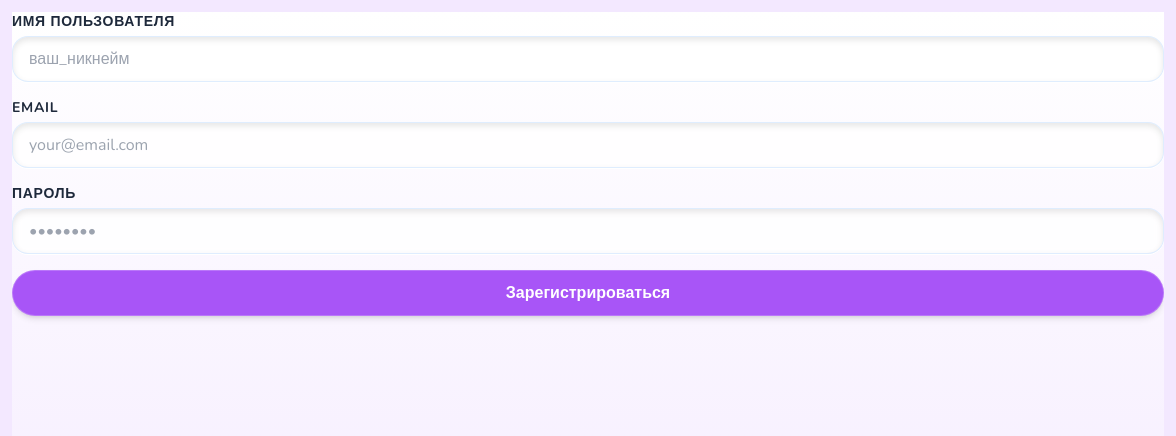
it: RegisterForm › shows validation errors for empty fields
The image size is (1176, 436).
Click the button "Зарегистрироваться". click: (588, 293)
box: x1=12 y1=270 x2=1164 y2=316
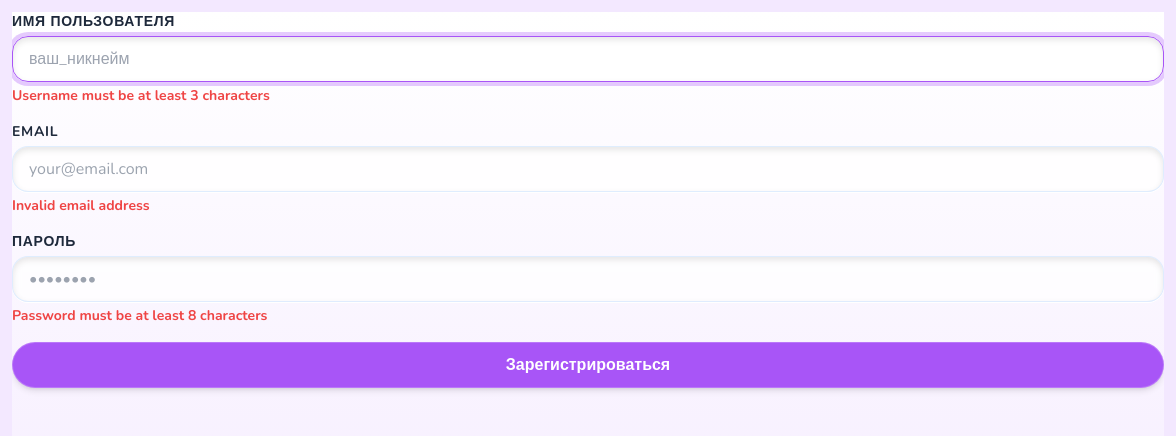
Result: the text "Username must be at least 3 characters" is shown at x1=12 y1=86 x2=270 y2=105
Result: the text "Invalid email address" is shown at x1=12 y1=196 x2=150 y2=215
Result: the text "Password must be at least 8 characters" is shown at x1=12 y1=306 x2=267 y2=325
